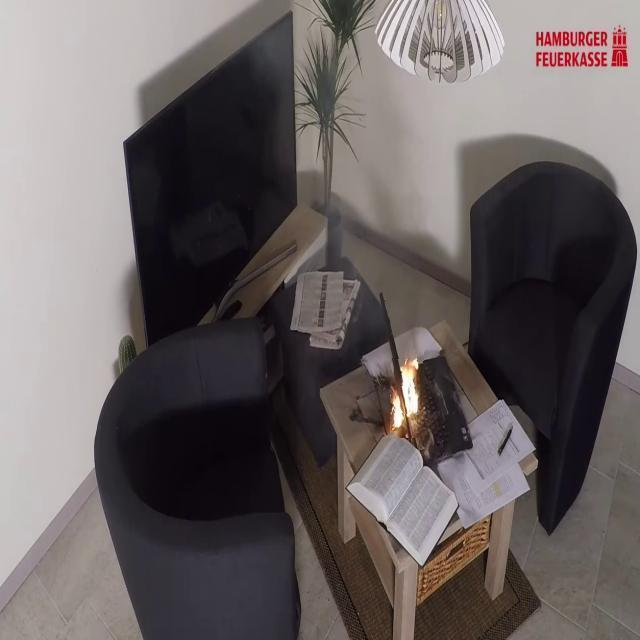fire: (250, 0, 398, 392)
smoke: (391, 344, 424, 438)
